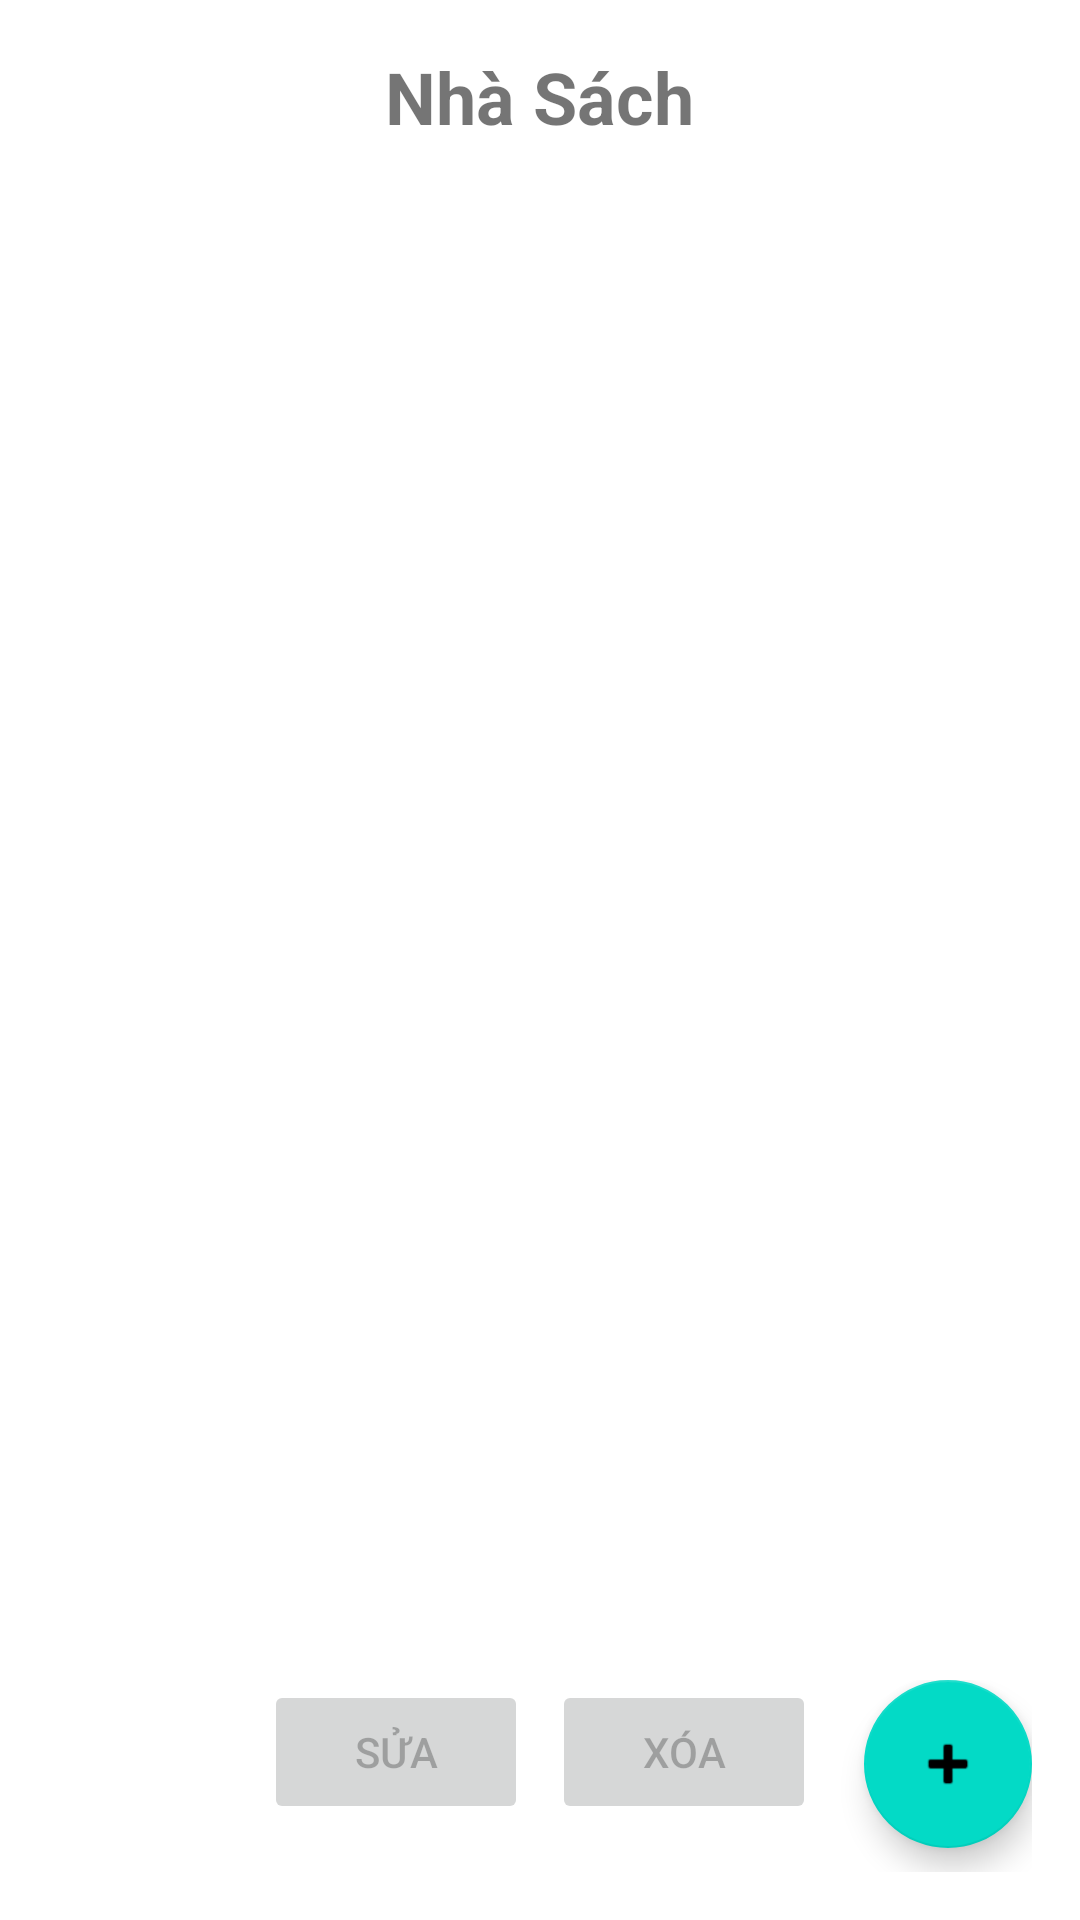

Point at icon controls on the screen. Image size 1080 × 1920, points as (x=x, y=y).
add: (x=948, y=1764)
